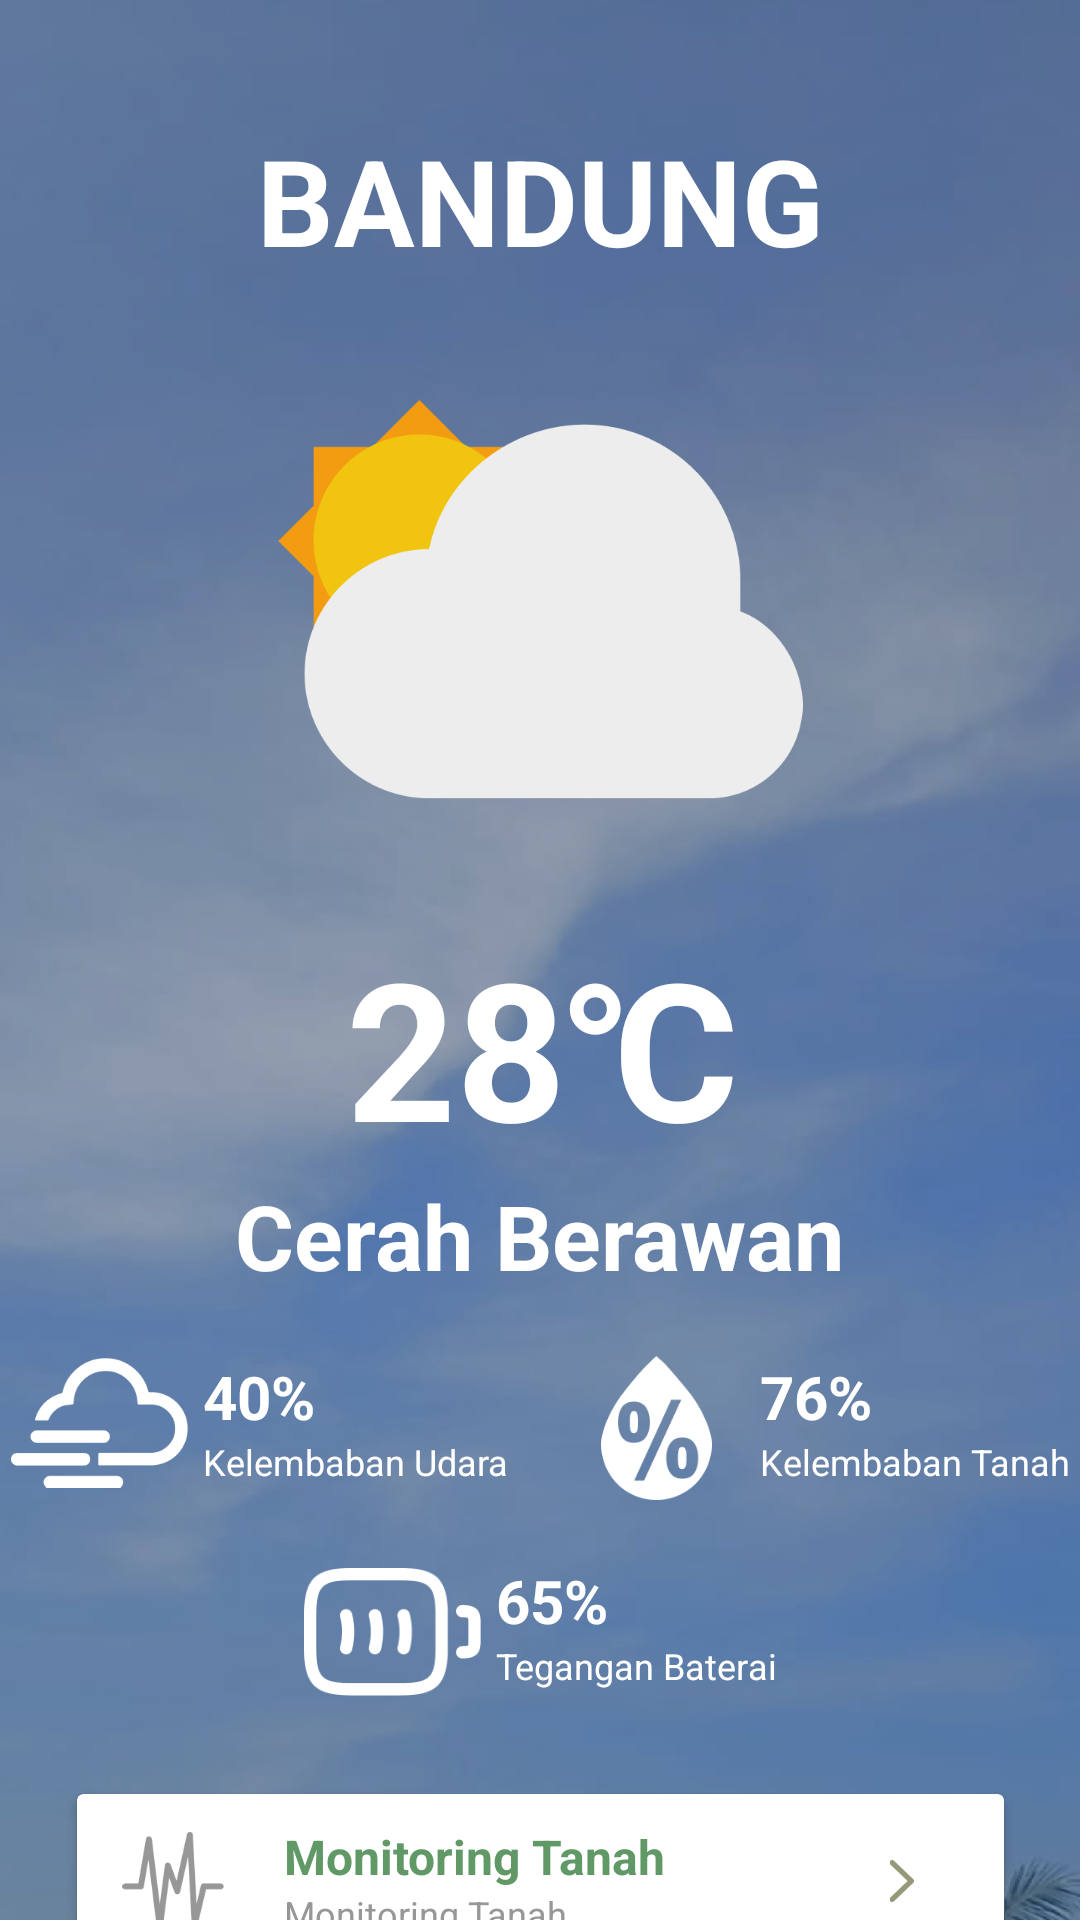

Where icons sit on this 1080x1920 app screen, as (x1, y1, x2, y2):
kelembapan tanah: (601, 1356, 712, 1500)
kelembapan udara: (11, 1358, 188, 1488)
see more: (890, 1860, 914, 1902)
